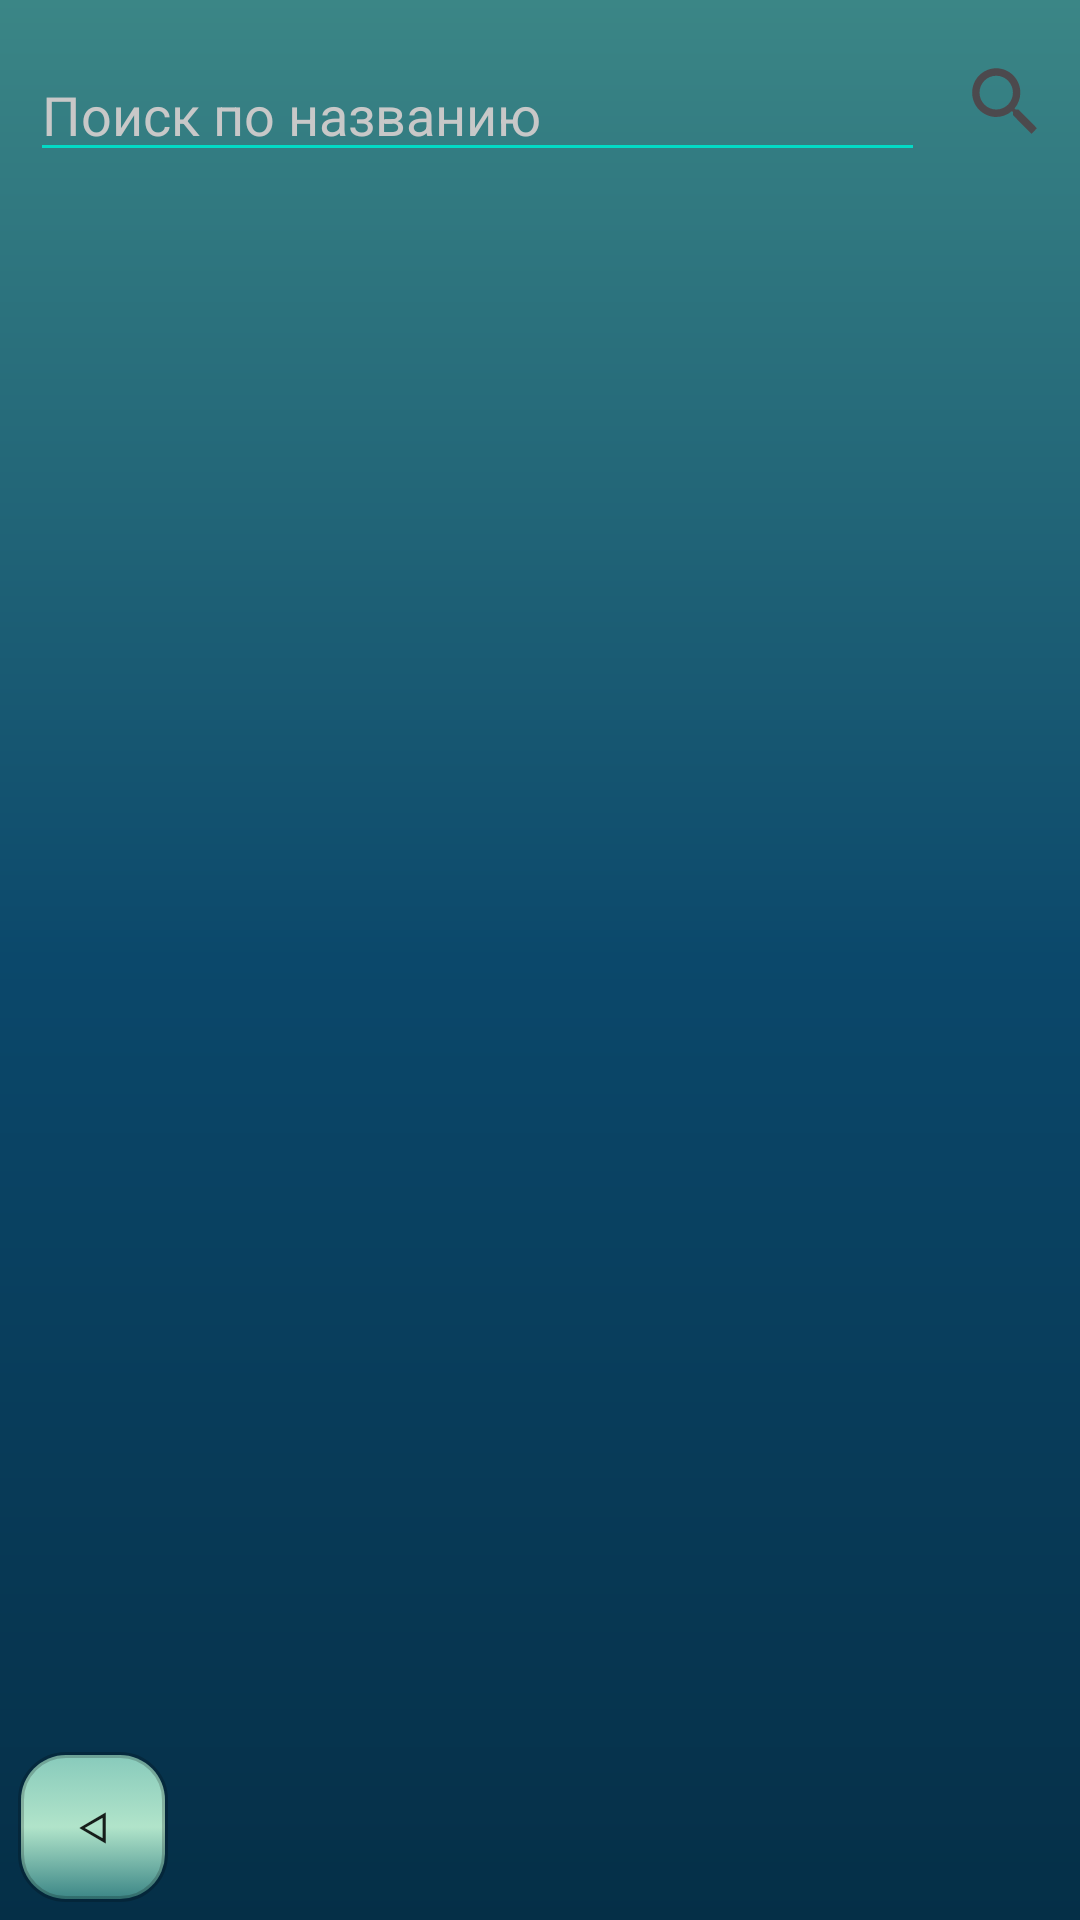

Named icons in this screenshot (1080 × 1920) and their bounding boxes, (x1, y1, x2, y2):
search: (972, 68, 1037, 134)
